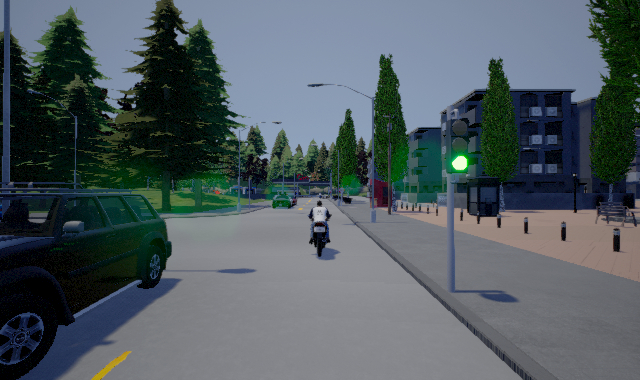motobike: (308, 200, 332, 256)
traffic_light: (446, 117, 471, 173)
vehicle: (1, 188, 172, 379), (271, 193, 290, 209)
